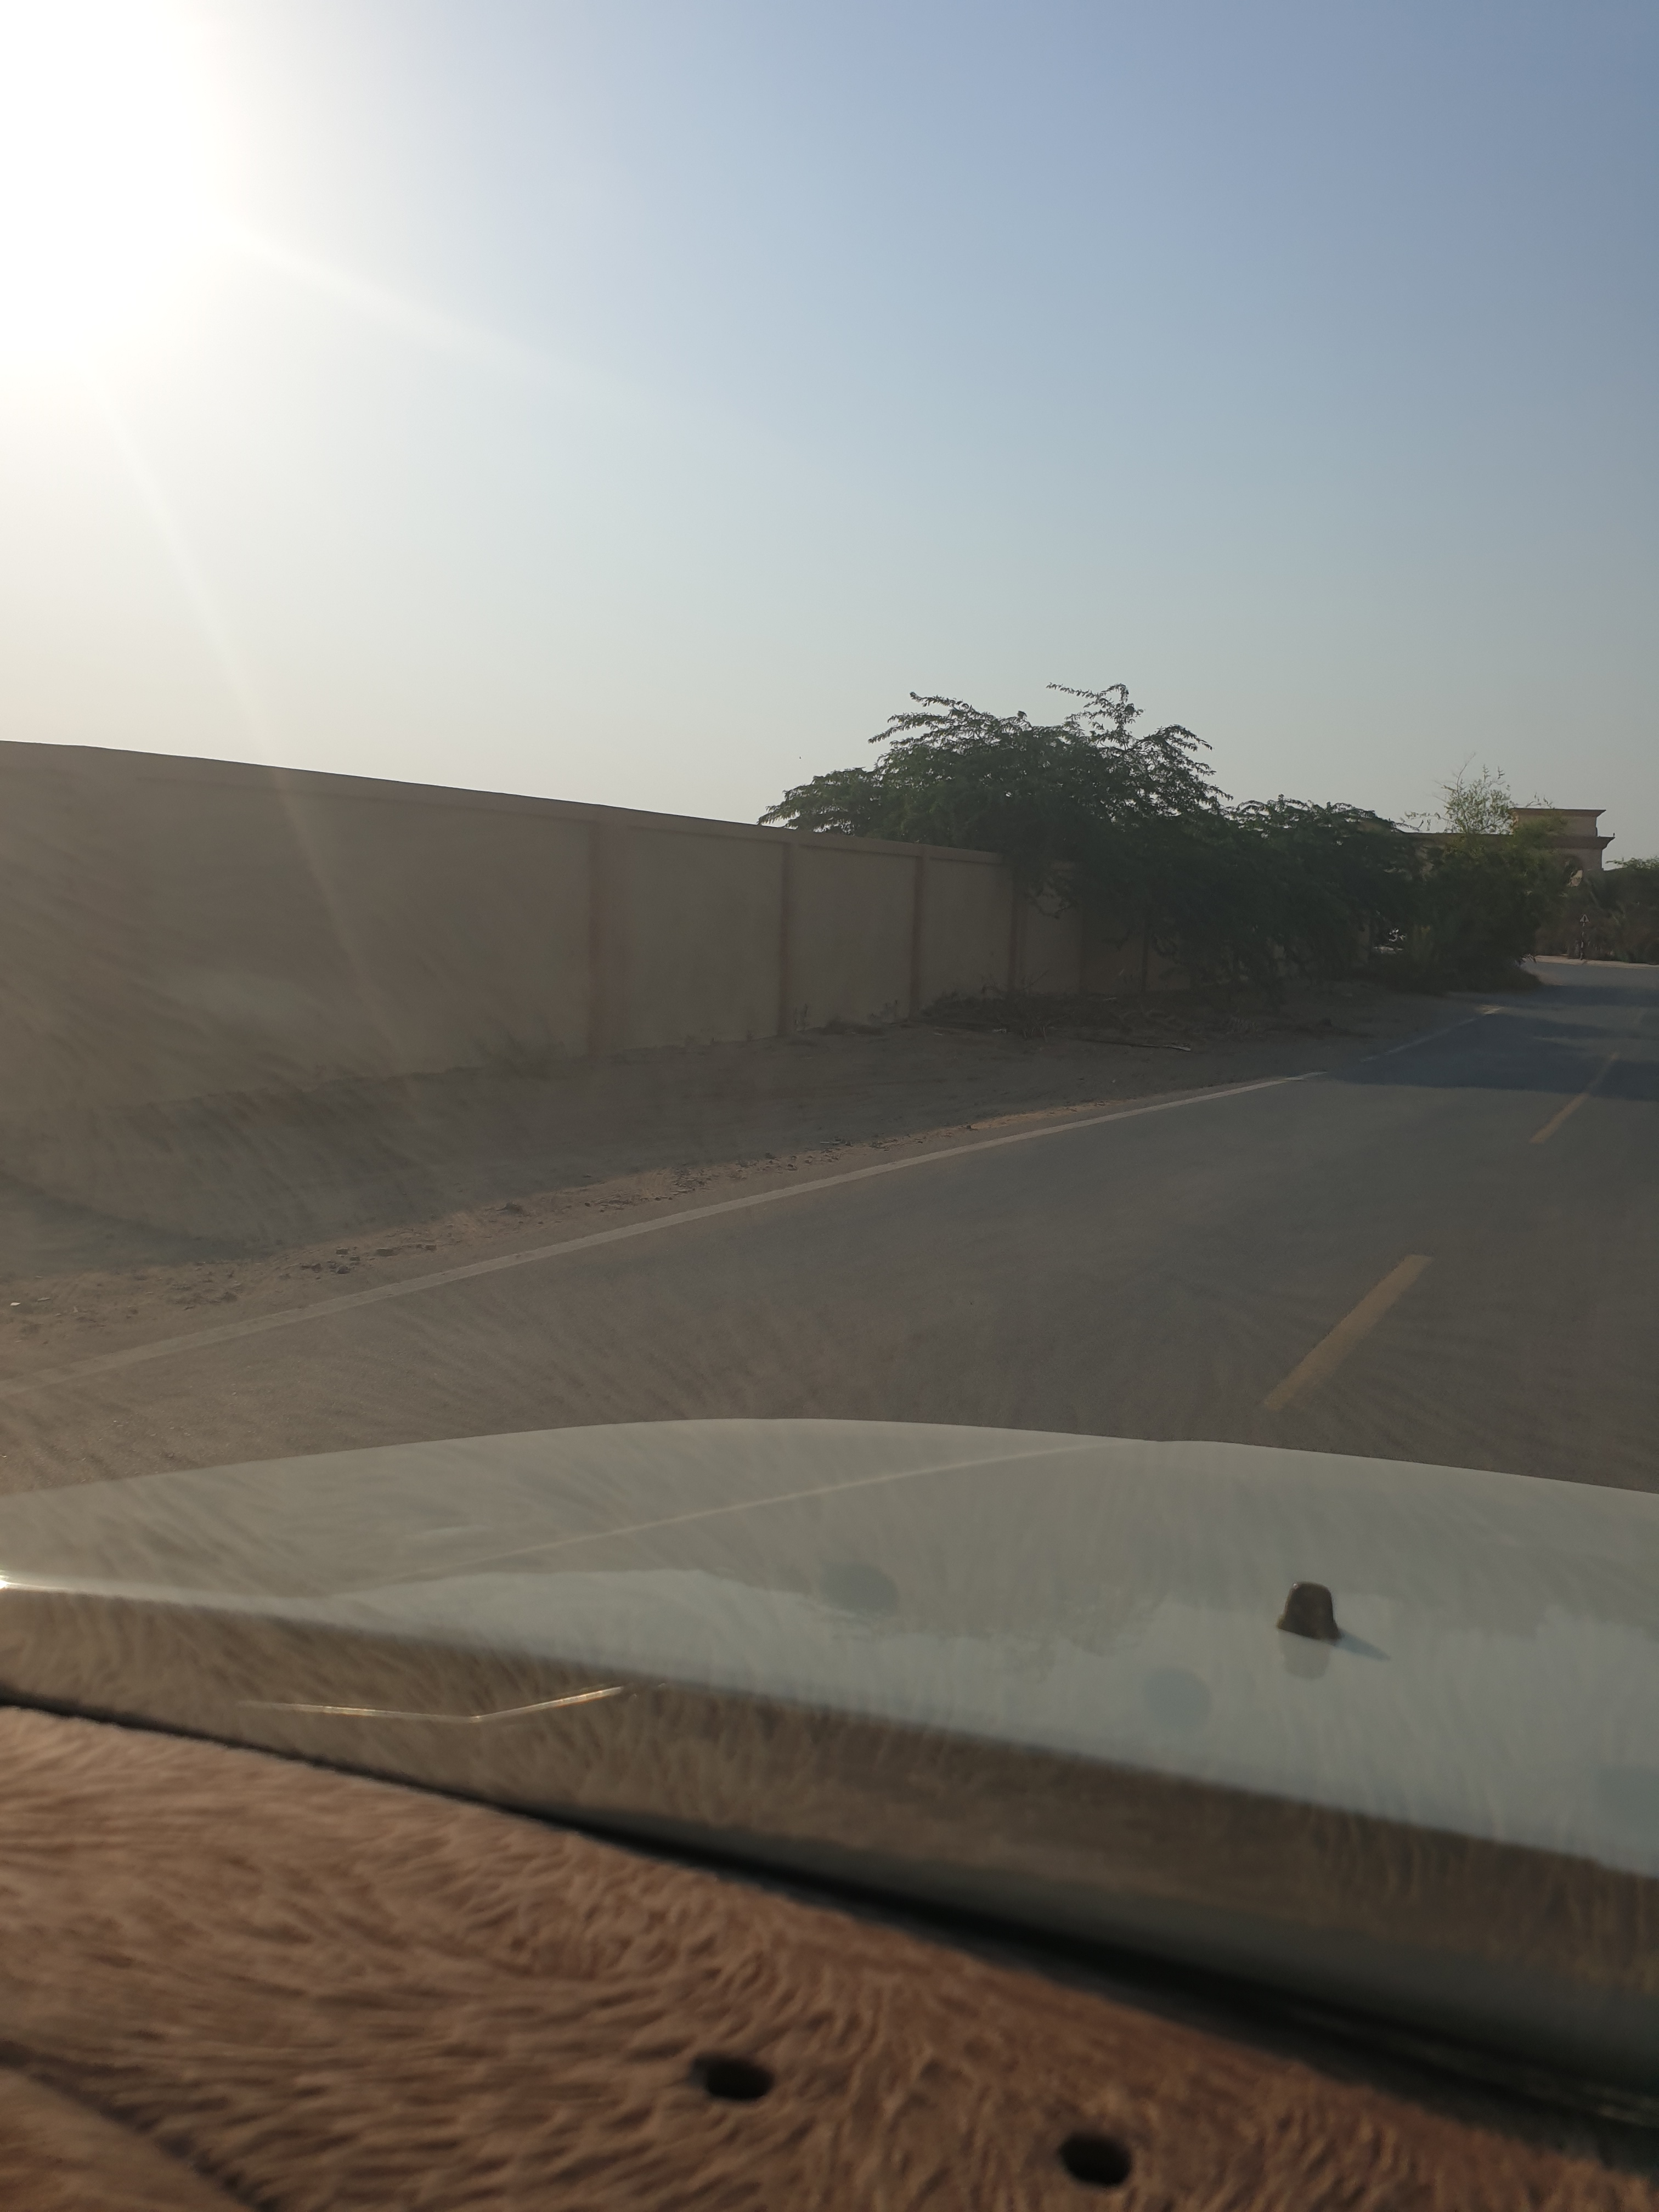fallen_trees: (939, 984, 1220, 1061)
